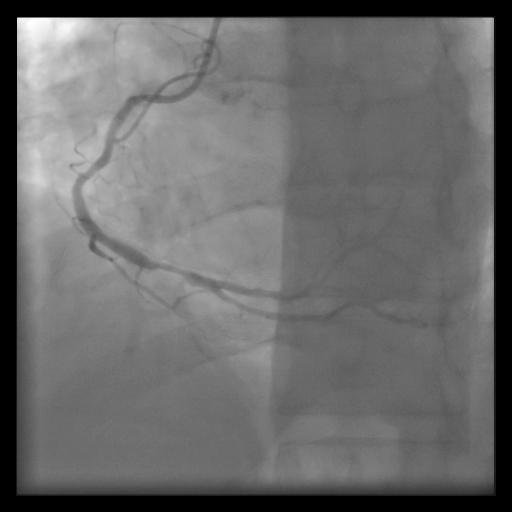Stenosis: (149, 253, 187, 283)
